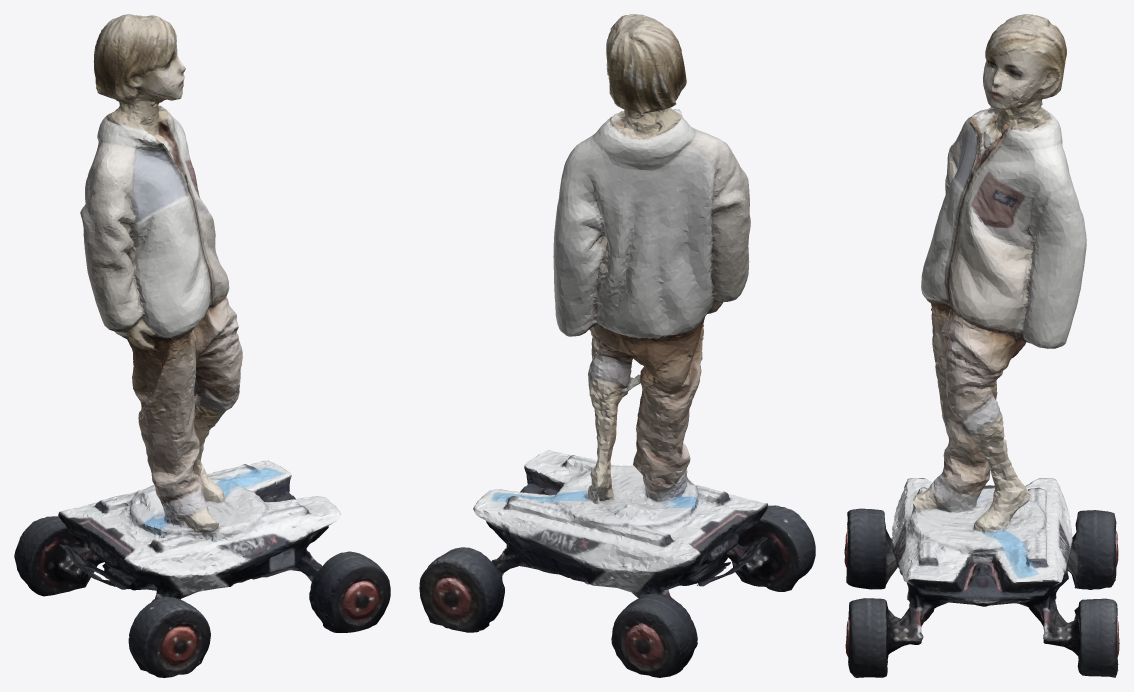
The model's file is human_robot6.dae.
3 renders of one model, left to right at view 1: azimuth 30°, elevation 25°; view 2: azimuth 150°, elevation 25°; view 3: azimuth 270°, elevation 25°, orthographic. The views are drawn at different scales.
Visible parts, largest first — view 1: human_robot4; view 2: human_robot4; view 3: human_robot4.
Boxes of the visible parts, x1,y1,x2,y2 form: human_robot4: (14, 14, 390, 677); human_robot4: (419, 14, 815, 677); human_robot4: (844, 14, 1119, 677).
Bounding box in the file's own units: 4.08 × 3.86 × 9.03.
Materials: 1 (1 with a texture image).
